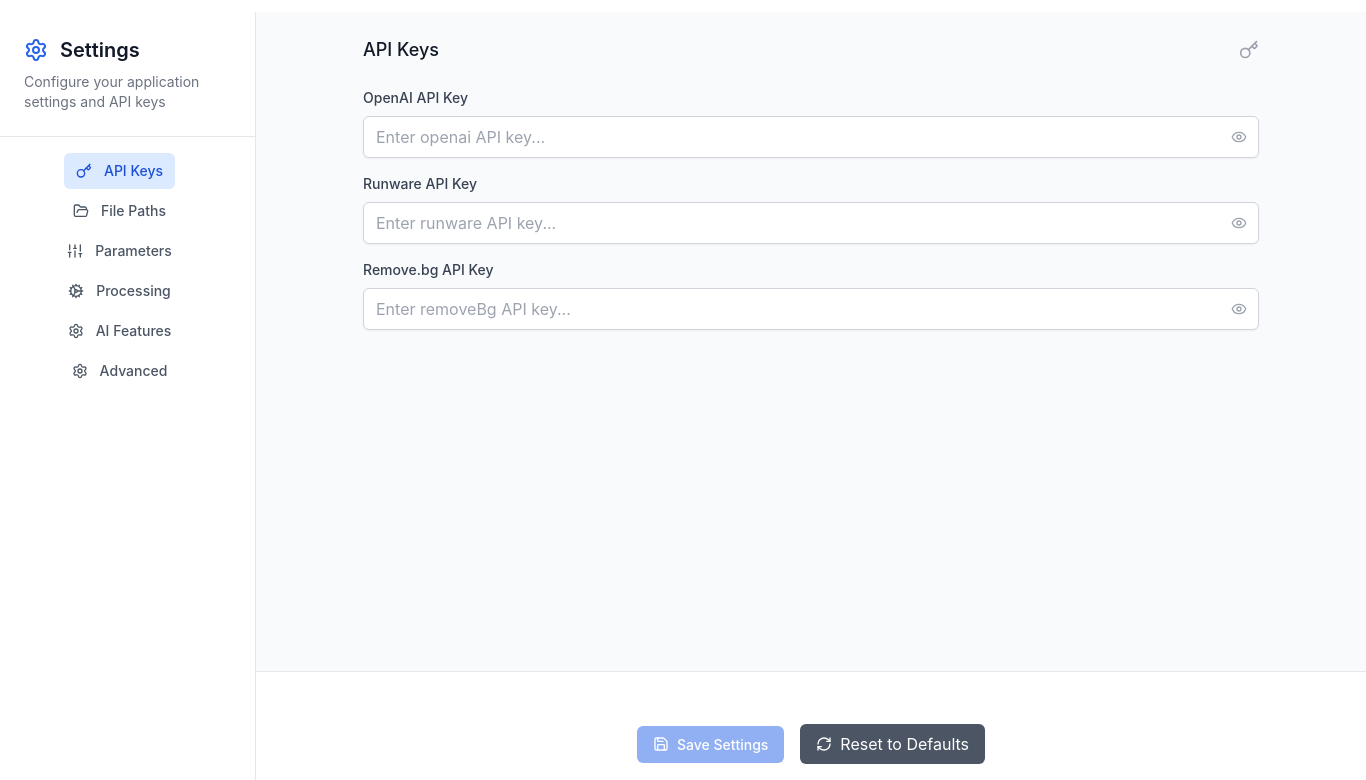
Test: SettingsPanel › navigates to Files section when tab is clicked
Click the tab with test id "files-tab". click: x=120, y=211
box: x1=61 y1=193 x2=178 y2=229
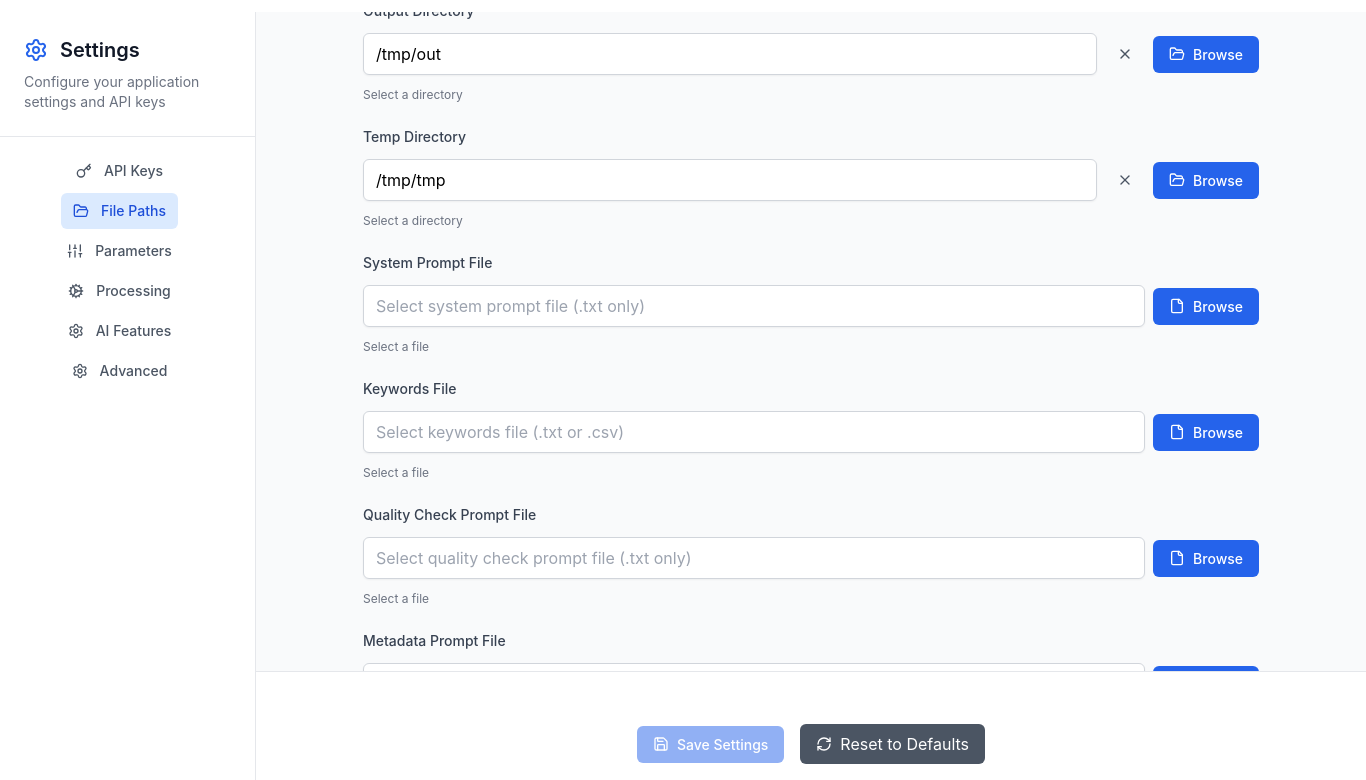
Result: the element with test id "file-paths-section" is shown at x1=363 y1=12 x2=1259 y2=671
